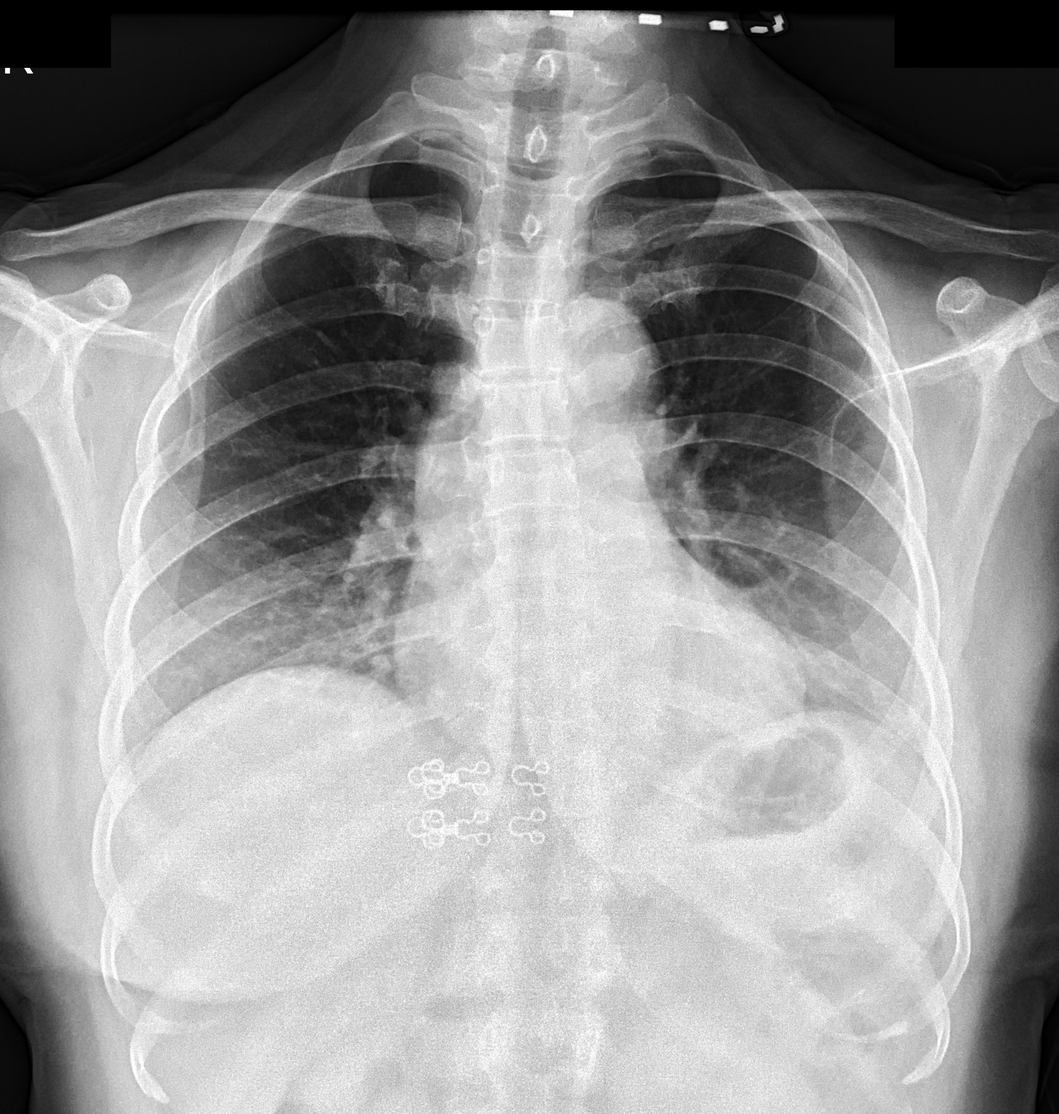Aortic enlargement: (521, 294, 666, 420)
Cardiomegaly: (390, 643, 810, 748)
